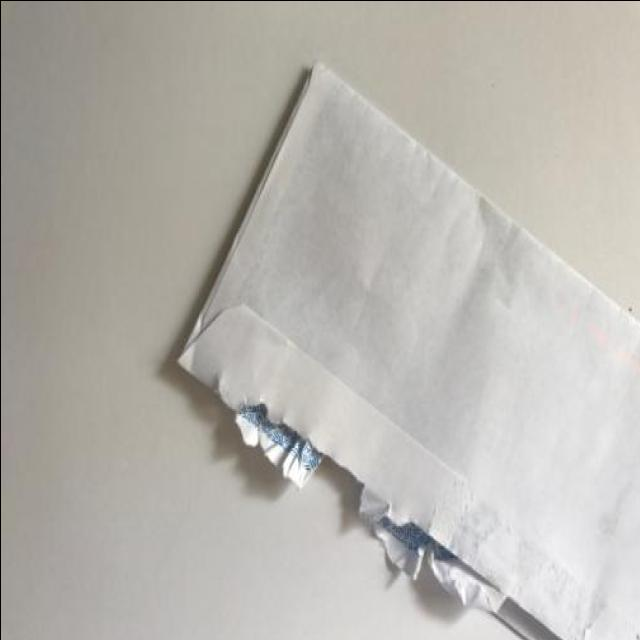kertas: (171, 55, 640, 640)
